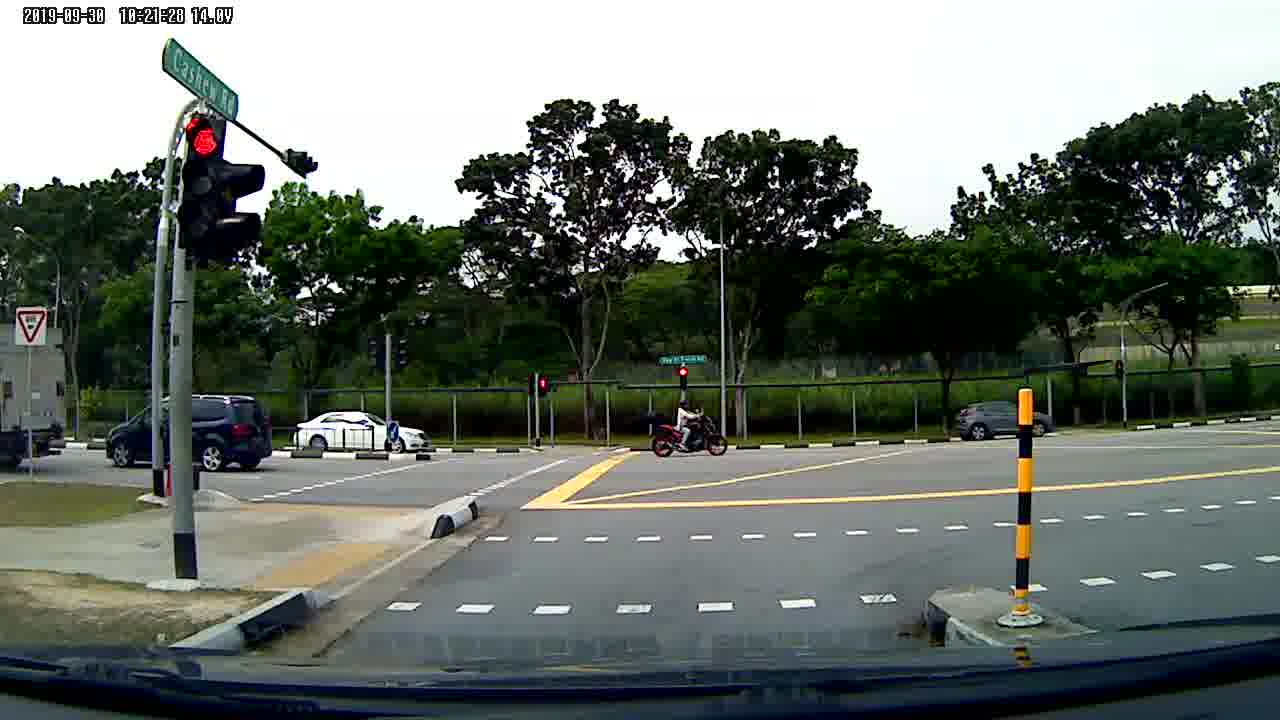car: (104, 392, 277, 473), (291, 409, 430, 453), (950, 400, 1057, 435)
